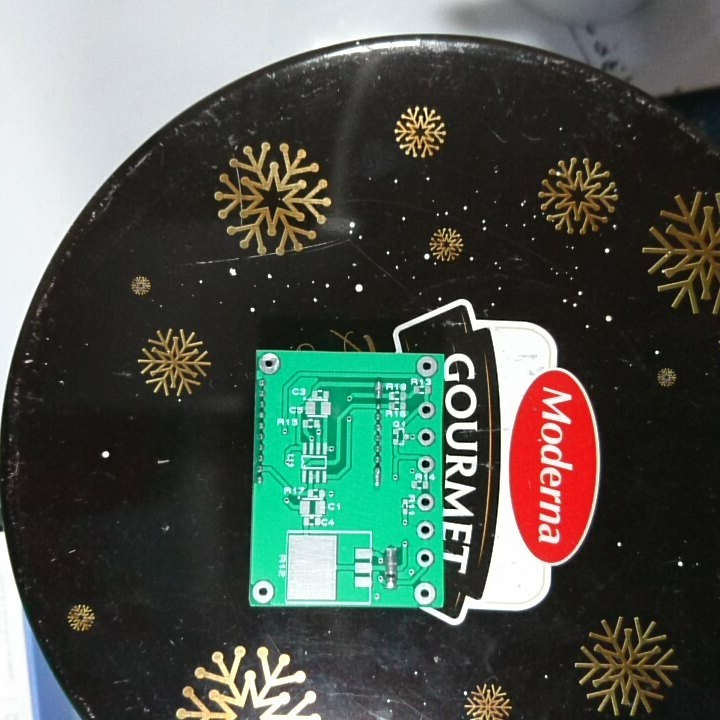F: (251, 578, 277, 606), (412, 580, 438, 606), (415, 352, 439, 379), (258, 351, 282, 375), (416, 426, 437, 448), (415, 454, 437, 475), (414, 547, 435, 569), (414, 520, 437, 540), (416, 400, 437, 421), (416, 492, 435, 513)
P: (382, 546, 399, 576), (371, 465, 382, 488), (374, 378, 384, 403)
